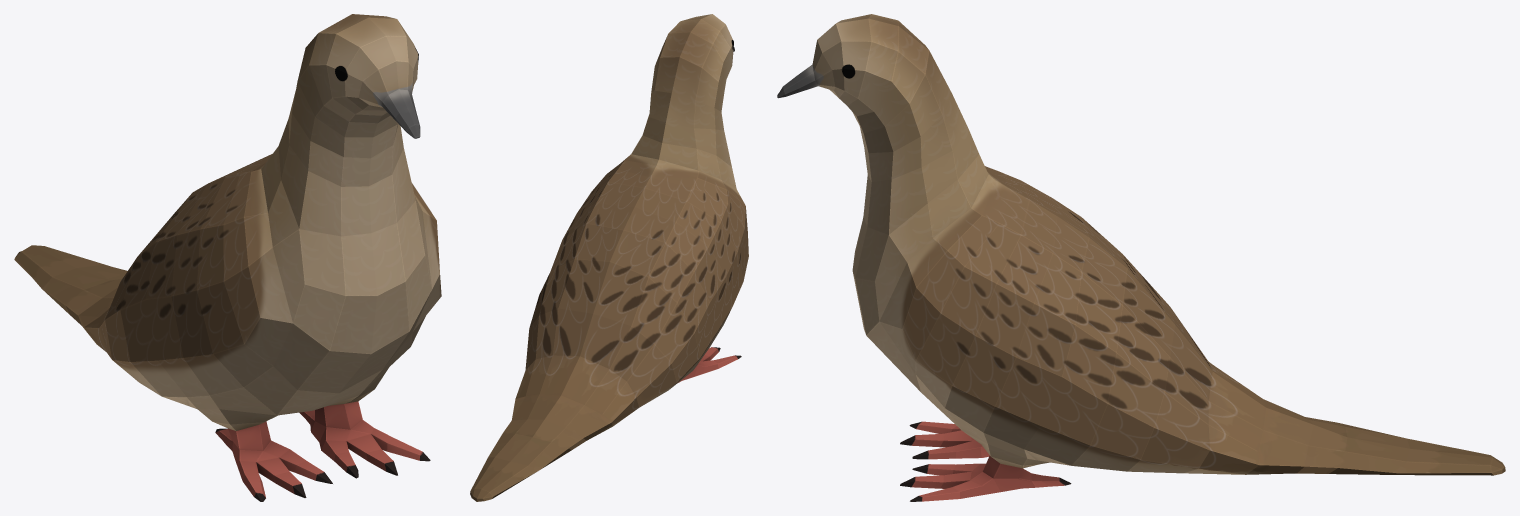
File: MourningDoves.obj
The picture shows the model from 3 angles, left to right: view 1: azimuth 30°, elevation 25°; view 2: azimuth 150°, elevation 25°; view 3: azimuth 270°, elevation 25°; orthographic projection. The views are drawn at different scales.
Visible parts, largest first — view 1: MourningDoves_Mesh; view 2: MourningDoves_Mesh; view 3: MourningDoves_Mesh.
Part boxes in pixels (x1,y1,x2,y2): MourningDoves_Mesh: [14, 14, 441, 501]; MourningDoves_Mesh: [470, 14, 748, 501]; MourningDoves_Mesh: [777, 14, 1505, 501].
Size of the model in its own units: 0.783 by 1.53 by 2.24.
1 material, 1 textured.
